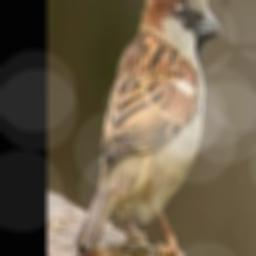Sparrow: (73, 0, 223, 256)
